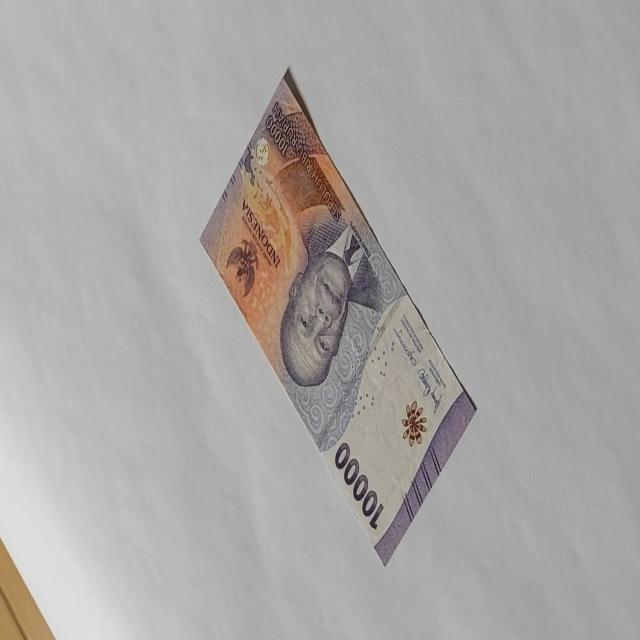sepuluh ribu rupiah: (198, 64, 478, 566), (278, 214, 384, 390)
